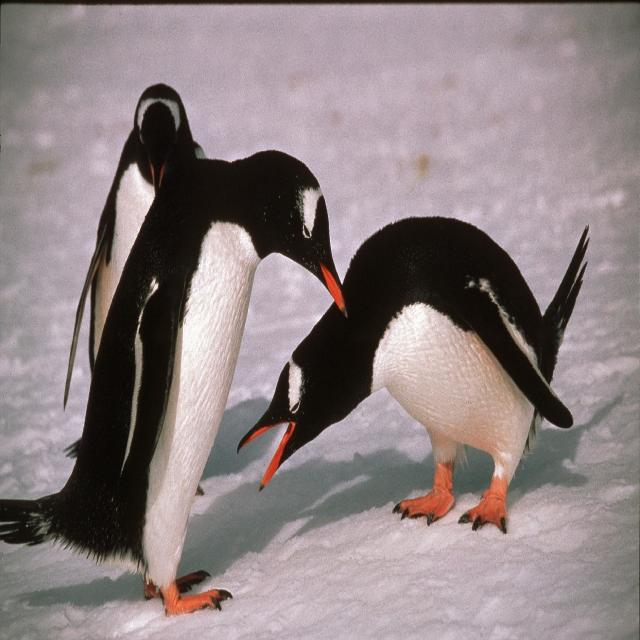Penguins: (28, 135, 351, 611), (238, 205, 596, 545), (78, 66, 202, 435)
